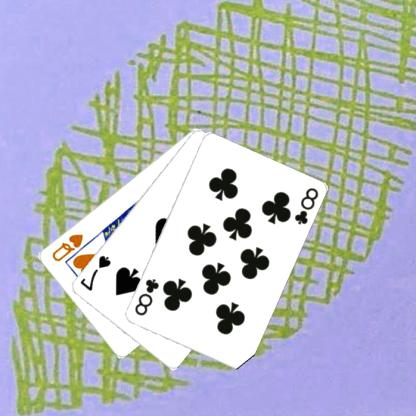7S: (79, 253, 114, 292)
8C: (134, 276, 162, 317), (293, 185, 321, 226)
QH: (50, 230, 86, 262)
